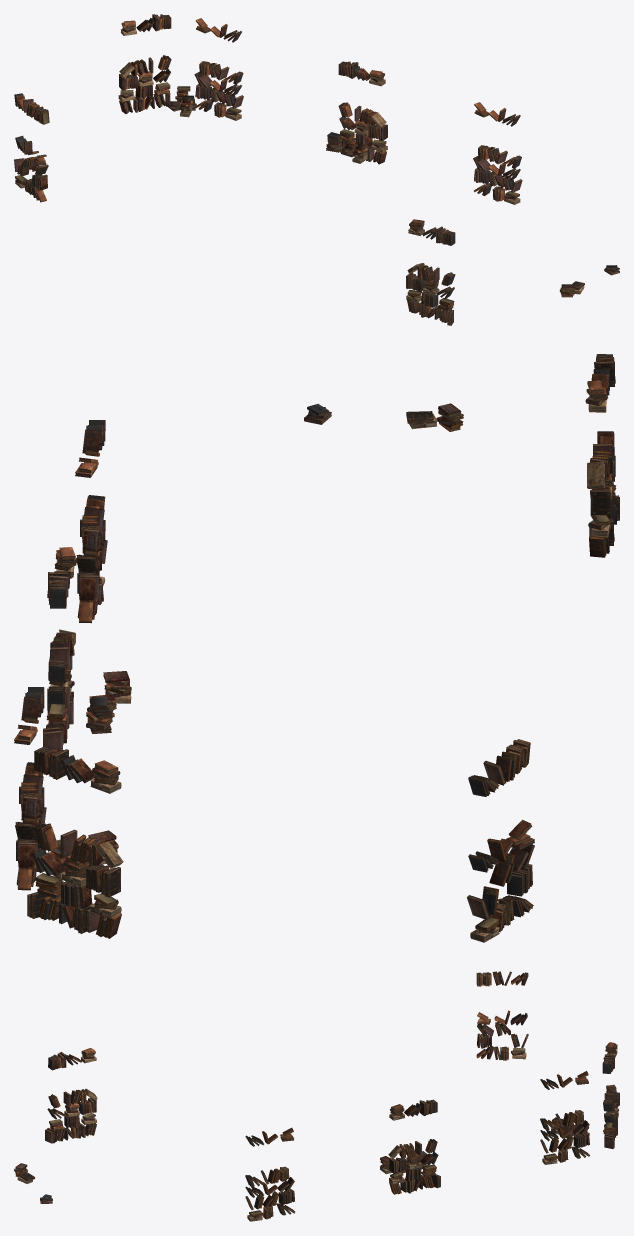
The model's file is books.fbx.
3 views of the same model, one above another, from view 1: azimuth 30°, elevation 25°; view 2: azimuth 150°, elevation 25°; view 3: azimuth 270°, elevation 25° (orthographic). The views are drawn at different scales.
Visible parts, largest first — view 1: m001021_7, m001021_2, m001021_0, m001021_5, m001021_1, m001021_4, m001021_3, m001021_6, m001021_8; view 2: m001021_2, m001021_7, m001021_0, m001021_5, m001021_4, m001021_1, m001021_6, m001021_3, m001021_8; view 3: m001021_7, m001021_2, m001021_5, m001021_0, m001021_1, m001021_4, m001021_3, m001021_6, m001021_8.
Boxes of the visible parts, left/top/right/bottom form: m001021_7: left=14, top=15, right=619, bottom=319; m001021_2: left=15, top=14, right=574, bottom=318; m001021_0: left=20, top=24, right=574, bottom=322; m001021_5: left=14, top=14, right=619, bottom=325; m001021_1: left=18, top=16, right=572, bottom=316; m001021_4: left=15, top=27, right=584, bottom=302; m001021_3: left=15, top=27, right=574, bottom=321; m001021_6: left=35, top=14, right=584, bottom=325; m001021_8: left=17, top=61, right=617, bottom=322; m001021_2: left=14, top=357, right=614, bottom=929; m001021_7: left=16, top=354, right=615, bottom=924; m001021_0: left=21, top=416, right=616, bottom=938; m001021_5: left=18, top=360, right=615, bottom=932; m001021_4: left=21, top=393, right=613, bottom=942; m001021_1: left=17, top=380, right=612, bottom=932; m001021_6: left=15, top=361, right=619, bottom=933; m001021_3: left=21, top=389, right=613, bottom=937; m001021_8: left=19, top=404, right=616, bottom=936; m001021_7: left=40, top=972, right=617, bottom=1215; m001021_2: left=14, top=972, right=618, bottom=1218; m001021_5: left=40, top=971, right=619, bottom=1209; m001021_0: left=15, top=971, right=615, bottom=1208; m001021_1: left=15, top=973, right=615, bottom=1219; m001021_4: left=15, top=972, right=618, bottom=1221; m001021_3: left=15, top=971, right=618, bottom=1218; m001021_6: left=19, top=1024, right=619, bottom=1193; m001021_8: left=41, top=972, right=617, bottom=1209.
Size of the model in its own units: 71967 by 17351 by 110057.
Materials: 9 (9 with a texture image).
